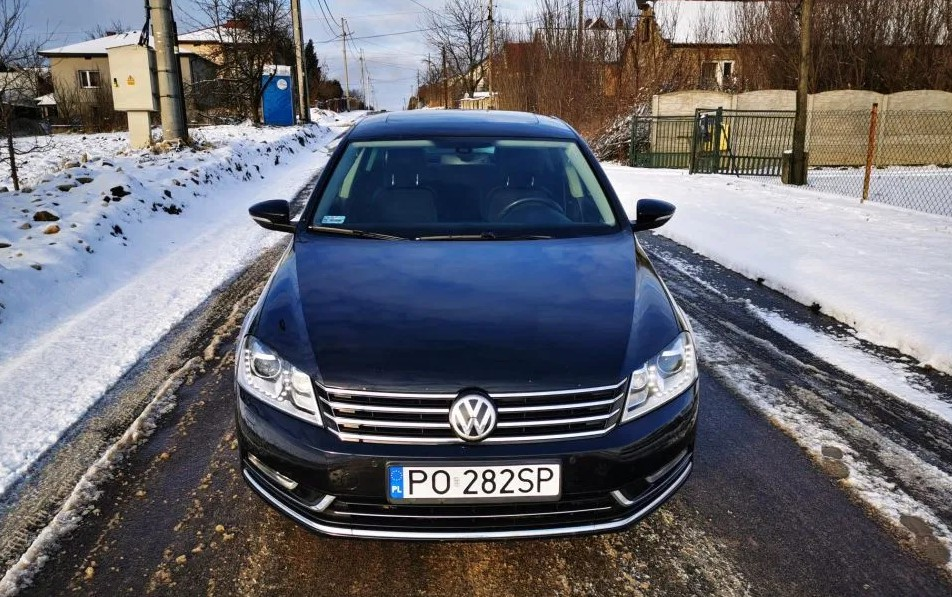number_plate: (376, 453, 571, 510)
